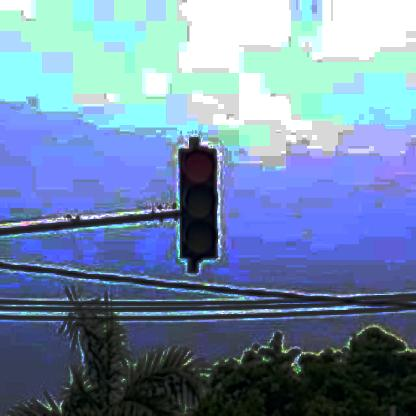Traffic Light -Red-: (180, 148, 218, 256)
